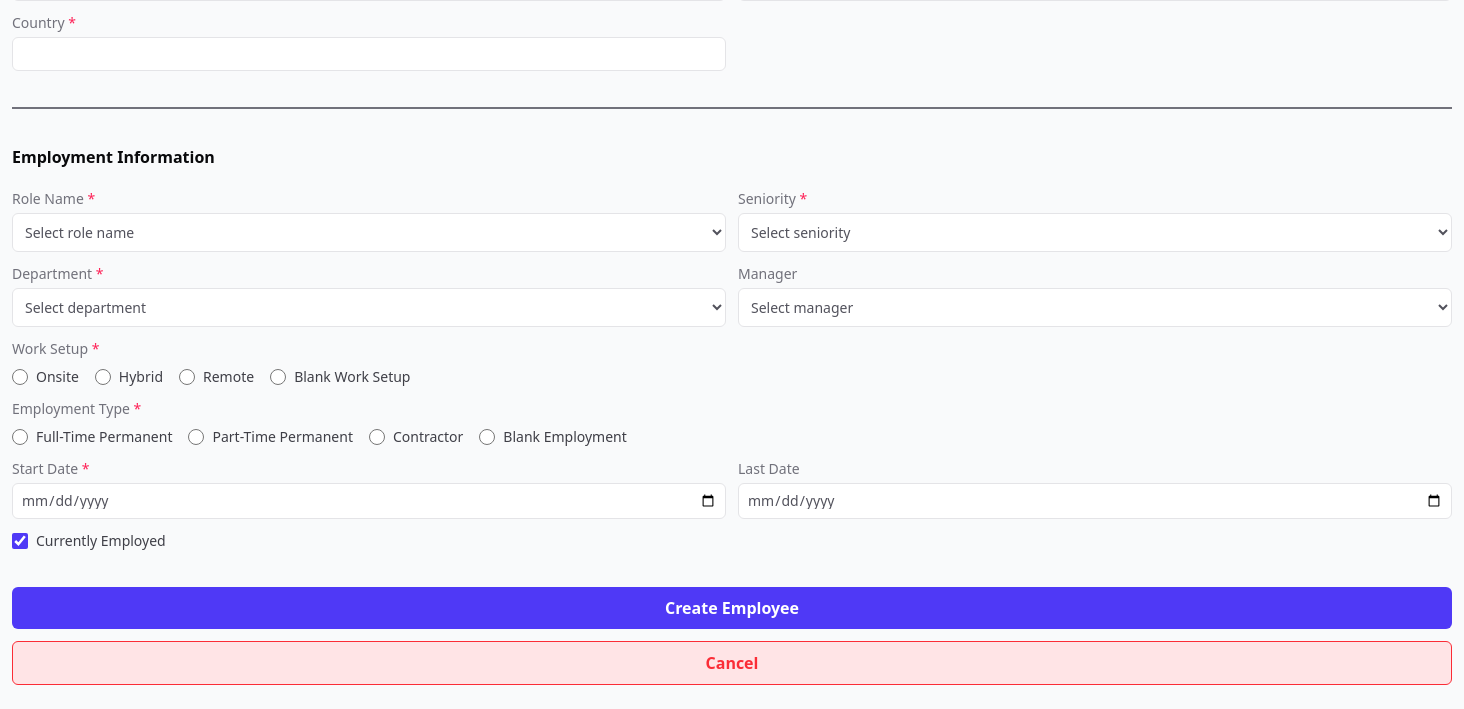
Test: EmployeeForm › Should render schema errors for when blank/null fields are submitted
The width and height of the screenshot is (1464, 709).
(page scrolled)
What coordinates should you click on to do the following:
click the button "Create Employee"
I would click on:
 (732, 608)
Its box is [12, 587, 1452, 629].
(page scrolled)
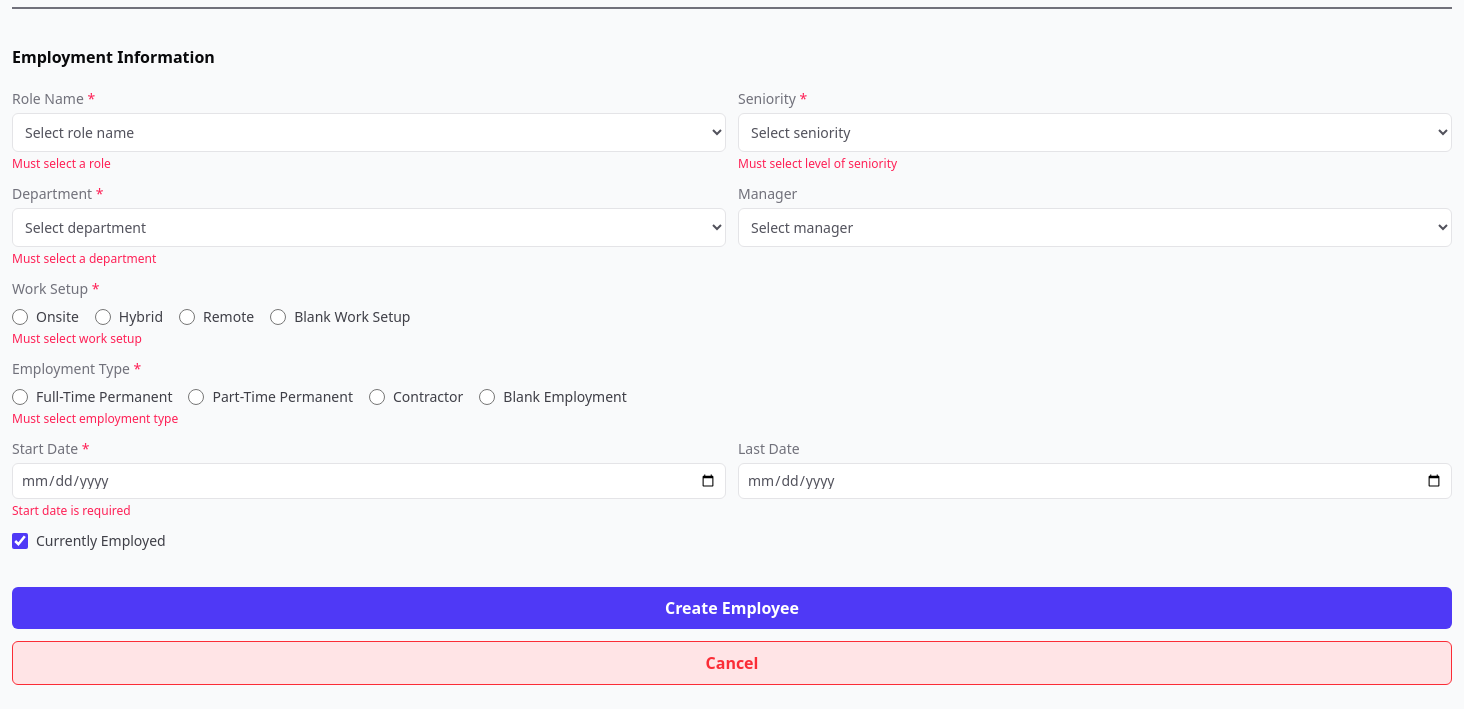
Result: the text "Must select level of seniority" is shown at [738, 155, 897, 172]
Result: the text "Must select a department" is shown at [12, 250, 156, 267]
Result: the text "Must select work setup" is shown at [12, 330, 142, 347]
